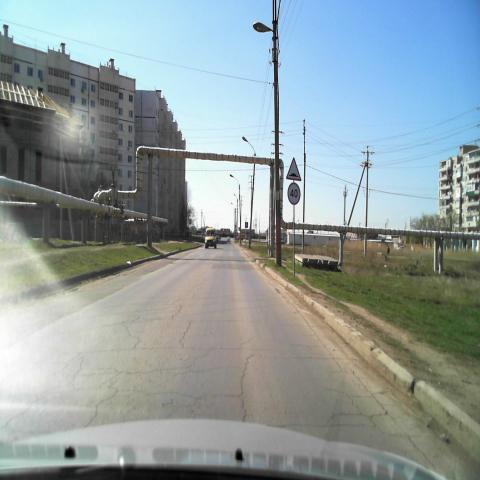1_17: (284, 157, 302, 182)
